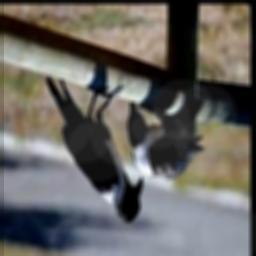Crow: (46, 71, 143, 222), (128, 101, 203, 180)
